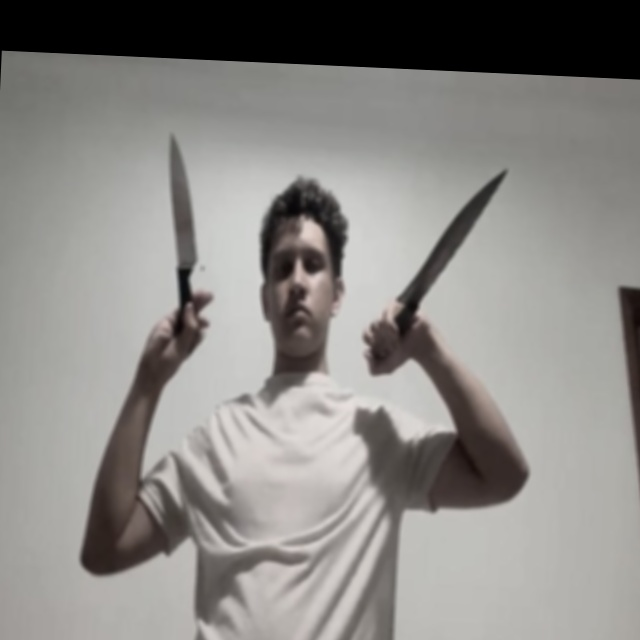Sharp-Object: (398, 166, 507, 307), (162, 130, 202, 263)
